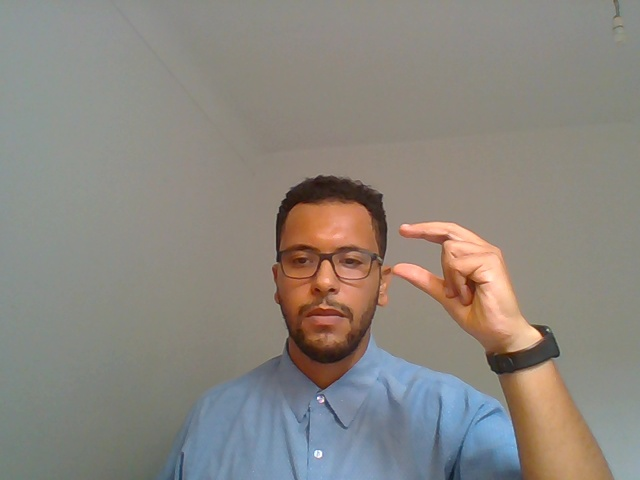no: (379, 198, 560, 396)
